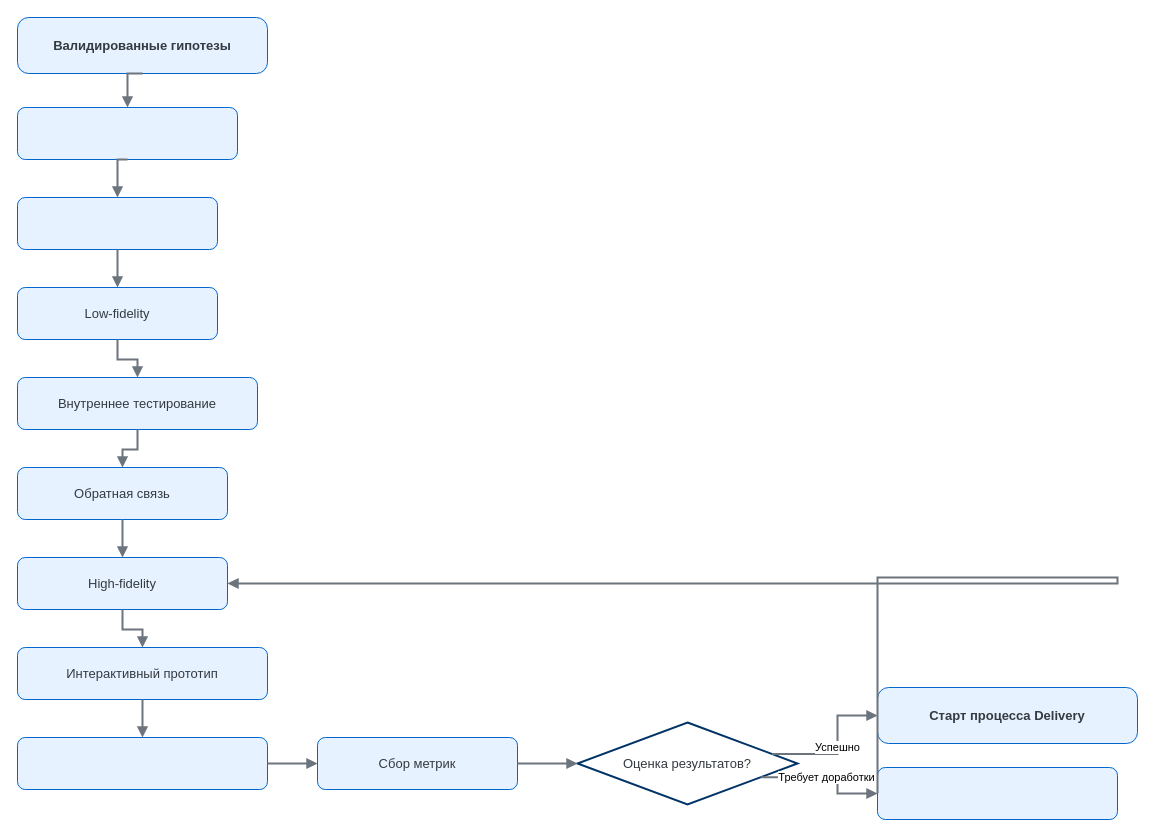
This 1155x837 diagram has some shape labels left out. The shapes that lost their labels are listed below. From the top down, each one's centre as x and y in pixels, then its label:
At pixel 127 133: "Дизайн-процесс".
At pixel 117 223: "Wireframes".
At pixel 142 763: "Тест с пользователями".
At pixel 997 793: "Доработка дизайна".
